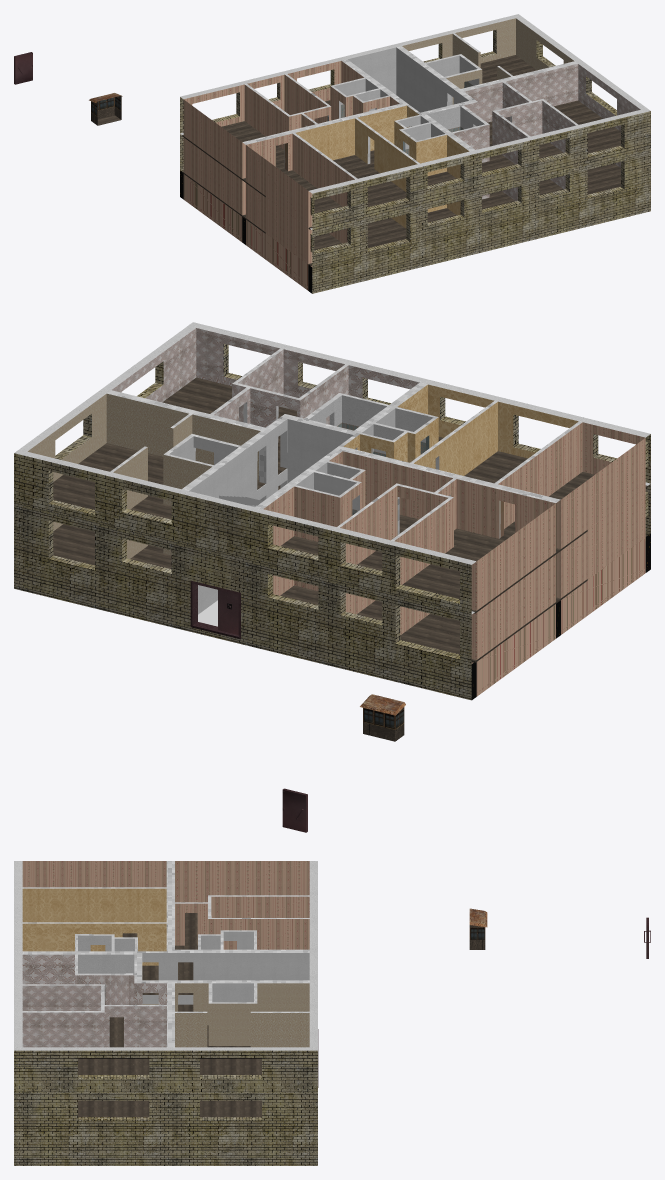
The model's file is hruschevka.glb.
3 views of the same model, one above another, from view 1: azimuth 30°, elevation 25°; view 2: azimuth 150°, elevation 25°; view 3: azimuth 270°, elevation 25° (orthographic). The views are drawn at different scales.
Parts seen in each view (by area): view 1: Плоскость.001, Плоскость.003, Куб.003, Куб.001, Плоскость.002, Куб; view 2: Плоскость.001, Плоскость.003, Куб.003, Куб.001, Плоскость.002, Куб; view 3: Плоскость.001, Плоскость.003, Куб.003, Куб.001, Плоскость.002.
Part boxes in pixels (x1,y1,x2,y2): Плоскость.001: (180, 14, 650, 230); Плоскость.003: (180, 84, 650, 293); Куб.003: (182, 55, 620, 229); Куб.001: (182, 163, 620, 265); Плоскость.002: (89, 93, 122, 125); Куб: (14, 52, 32, 84); Плоскость.001: (14, 322, 650, 614); Плоскость.003: (14, 468, 650, 700); Куб.003: (53, 377, 647, 613); Куб.001: (53, 485, 647, 662); Плоскость.002: (360, 694, 405, 741); Куб: (282, 788, 307, 832); Плоскость.001: (14, 861, 317, 1092); Плоскость.003: (14, 995, 318, 1165); Куб.003: (78, 913, 261, 1074); Куб.001: (78, 1004, 261, 1117); Плоскость.002: (469, 908, 487, 949).
Bounding box in the file's own units: 52.46 × 13.95 × 69.95.
21 materials, 21 textured.
